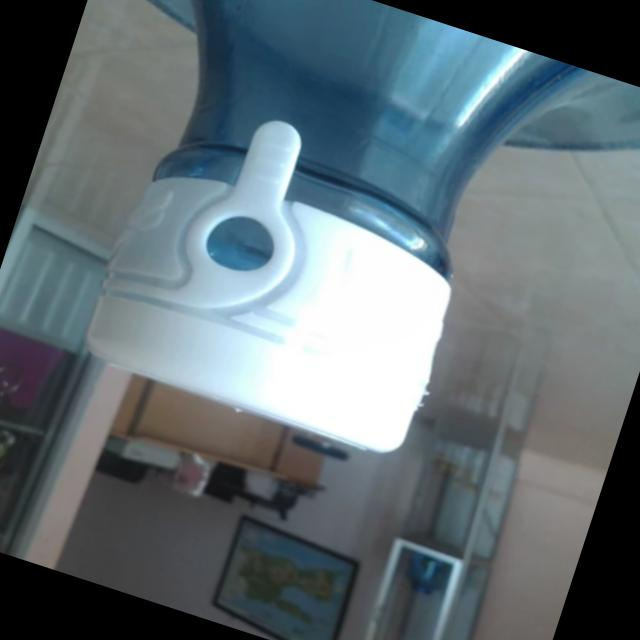TutupGalon: (0, 0, 640, 527)
